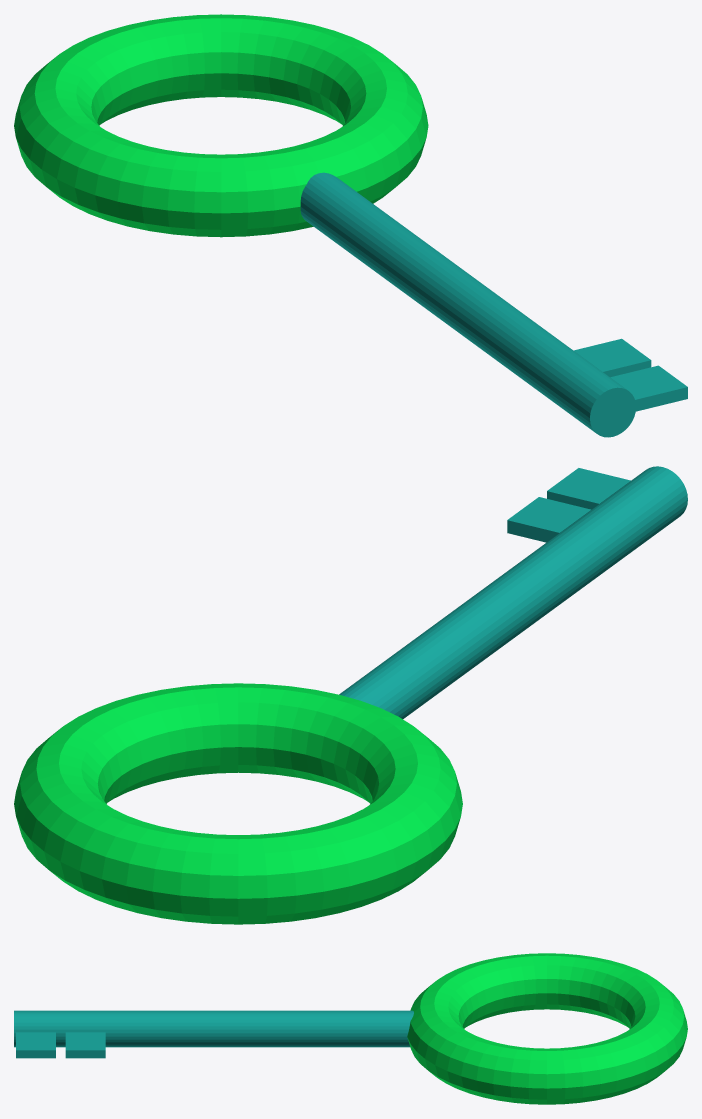
Rendered from key.fbx.
The picture shows the model from 3 angles, top to bottom: view 1: azimuth 30°, elevation 25°; view 2: azimuth 150°, elevation 25°; view 3: azimuth 270°, elevation 25°; orthographic projection. The views are drawn at different scales.
Parts seen in each view (by area): view 1: Cube; view 2: Cube; view 3: Cube.
Boxes of the visible parts, x1=… form: Cube: x1=14, y1=14, x2=687, y2=437; Cube: x1=14, y1=466, x2=687, y2=924; Cube: x1=14, y1=953, x2=687, y2=1104.
Bounding box in the file's own units: 4.79 × 0.9575 × 11.45.
